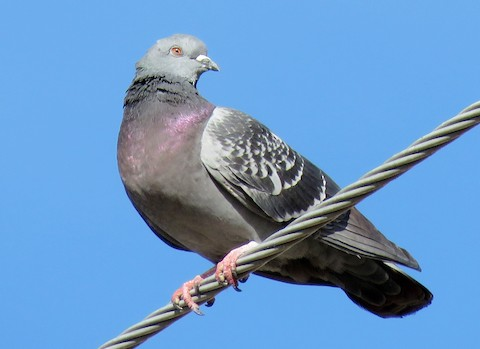pigeon: (115, 32, 439, 319)
